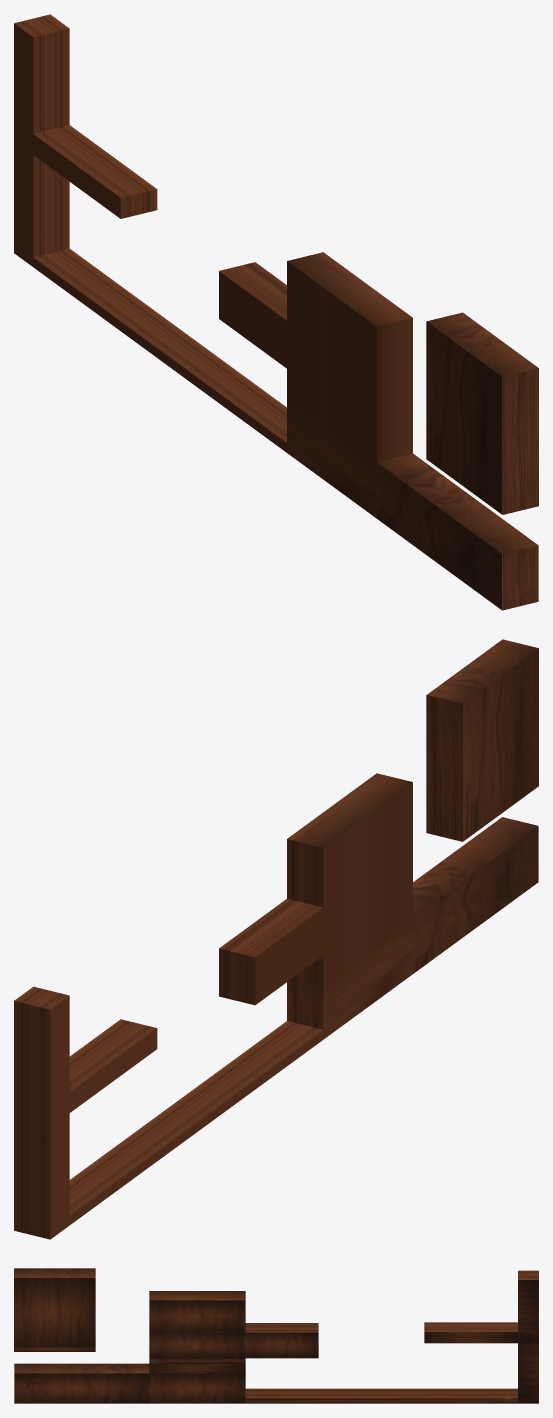
File: nivel 4.fbx
3 renders of one model, top to bottom at view 1: azimuth 30°, elevation 25°; view 2: azimuth 150°, elevation 25°; view 3: azimuth 270°, elevation 25°, orthographic. The views are drawn at different scales.
Parts seen in each view (by area): view 1: Cube.007; view 2: Cube.007; view 3: Cube.007.
Boxes of the visible parts, x1=… form: Cube.007: x1=14, y1=14, x2=538, y2=610; Cube.007: x1=14, y1=639, x2=538, y2=1239; Cube.007: x1=14, y1=1268, x2=538, y2=1403.
Bounding box in the file's own units: 194 × 1190 × 4509.
